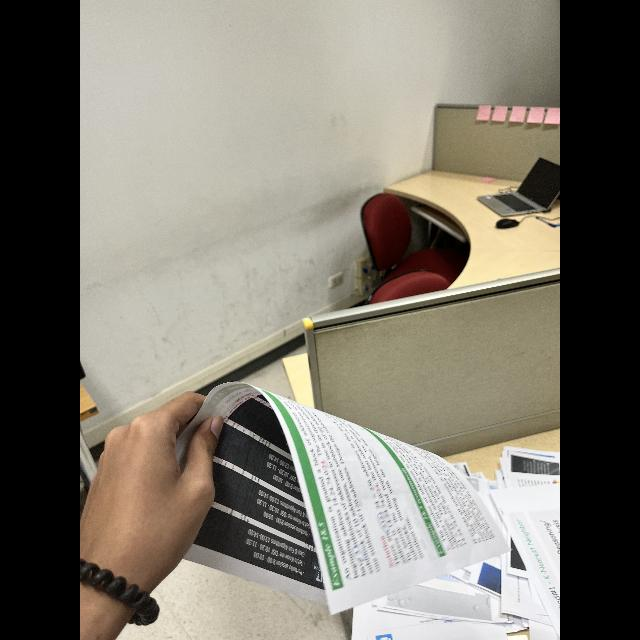reuseable_paper: (166, 369, 512, 619), (308, 446, 560, 640)
